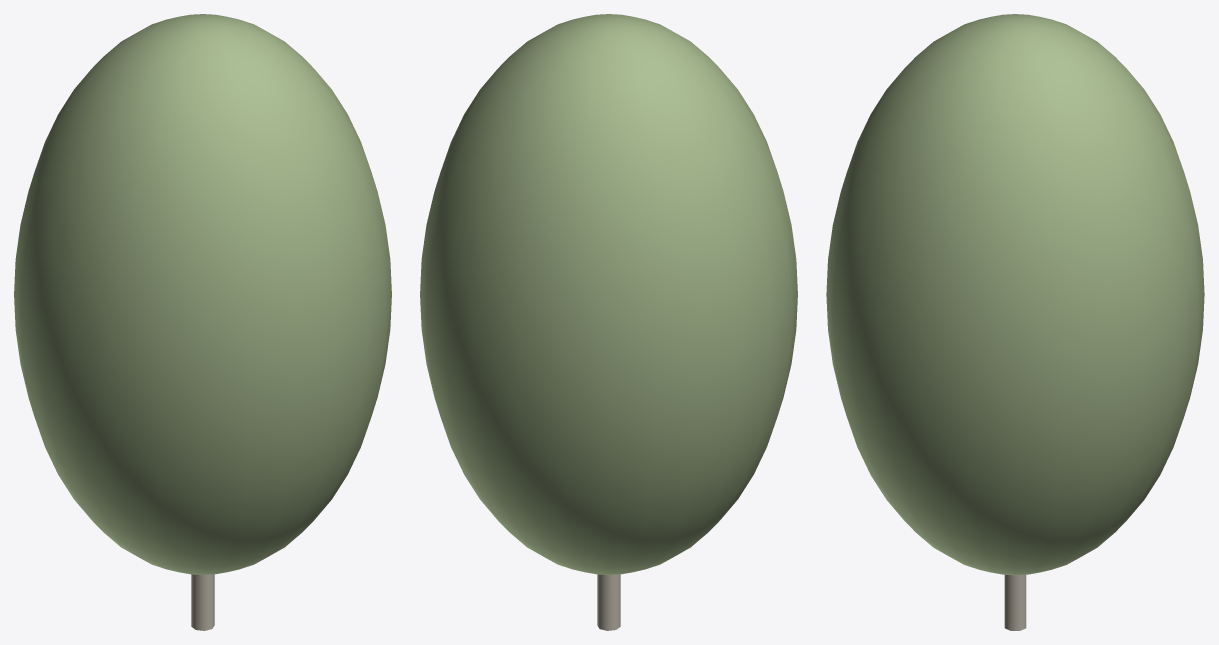
Rendered from CaryaOvalis.glb.
3 views of the same model, side by side, from view 1: azimuth 30°, elevation 25°; view 2: azimuth 150°, elevation 25°; view 3: azimuth 270°, elevation 25° (orthographic).
Visible parts, largest first — view 1: Red_Hickory__Schematic_LOD3; view 2: Red_Hickory__Schematic_LOD3; view 3: Red_Hickory__Schematic_LOD3.
Part boxes in pixels (x1,y1,x2,y2): Red_Hickory__Schematic_LOD3: [14, 14, 391, 630]; Red_Hickory__Schematic_LOD3: [420, 14, 797, 630]; Red_Hickory__Schematic_LOD3: [826, 14, 1204, 630].
Size of the model in its own units: 9.64 by 16.9 by 9.64.
